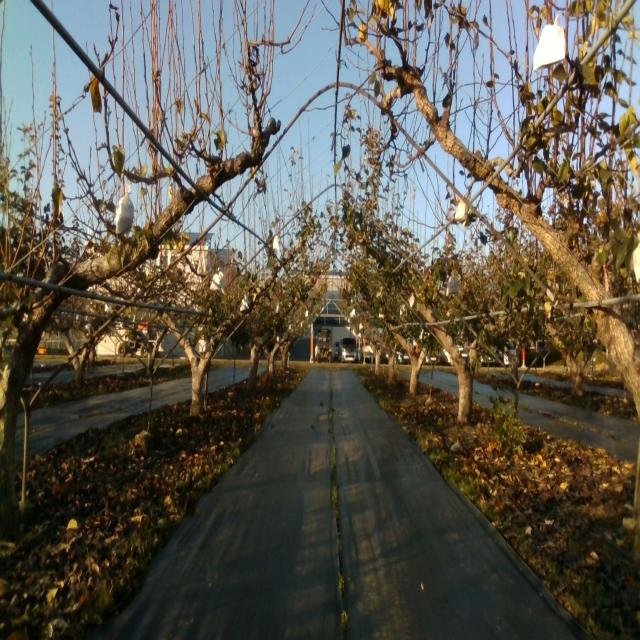pearbags: (533, 14, 565, 70), (115, 184, 134, 235), (454, 199, 468, 229), (446, 274, 460, 296), (210, 267, 223, 290)
